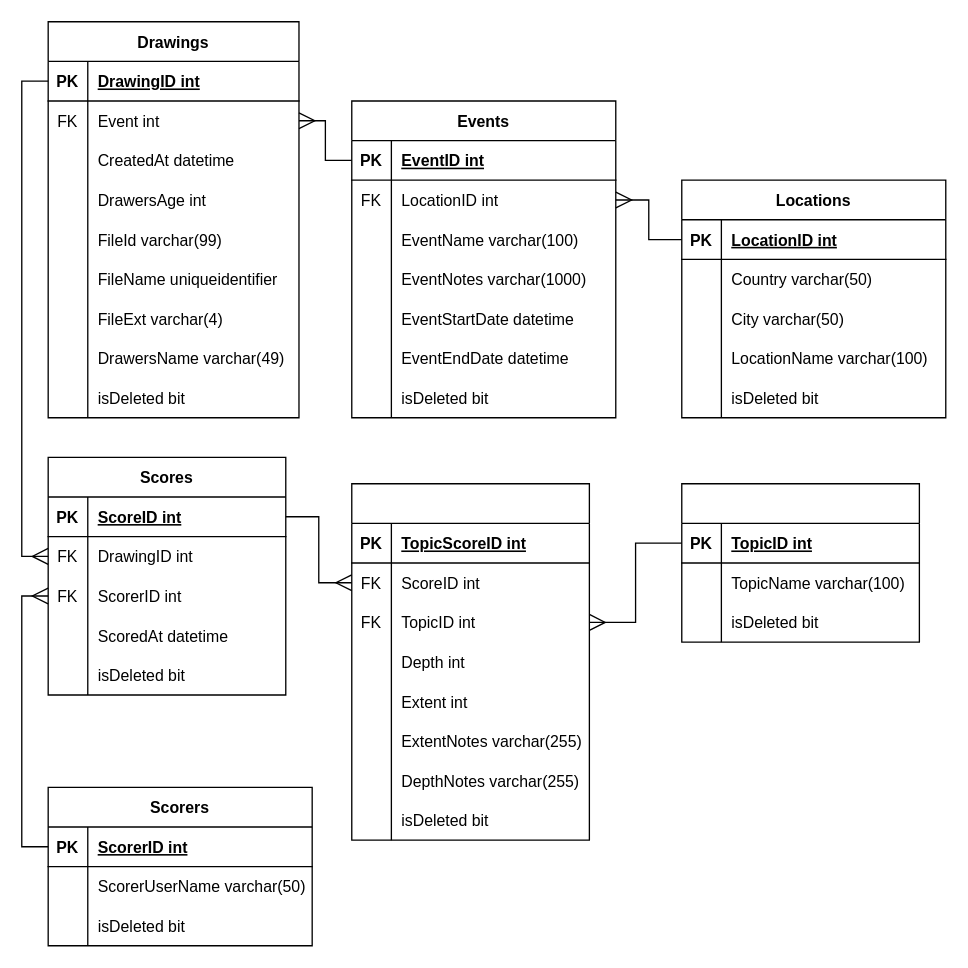
Image size: 968x968. Some labels were removed from this diagram. The box of each missing label's shape, as (x1, y1, x2, y2) in pixels:
Topics: (680, 482, 919, 642)
TopicScores: (350, 482, 589, 840)
